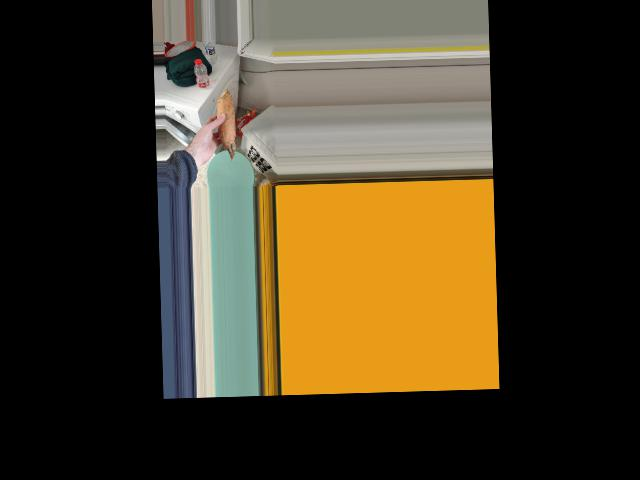sweet_potato: (212, 94, 237, 161)
